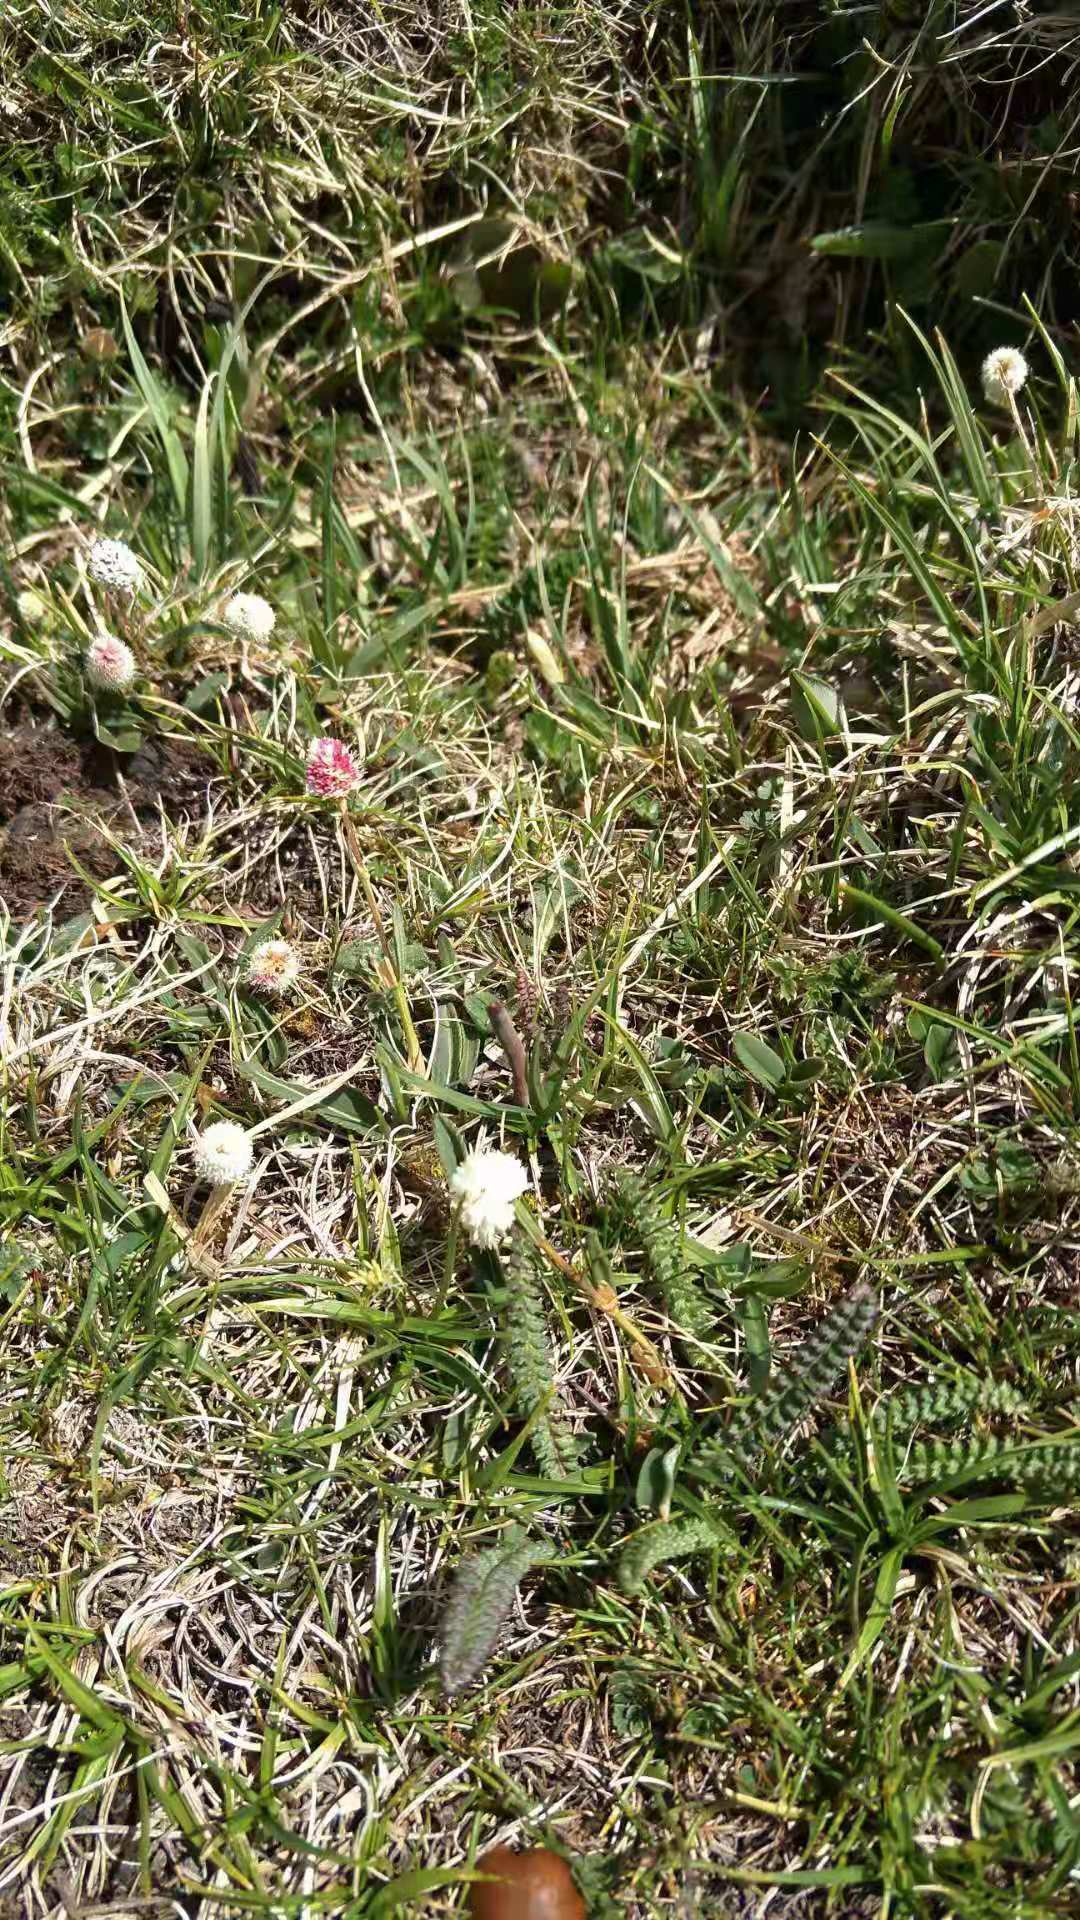Chongcao: (487, 1001, 529, 1106)
